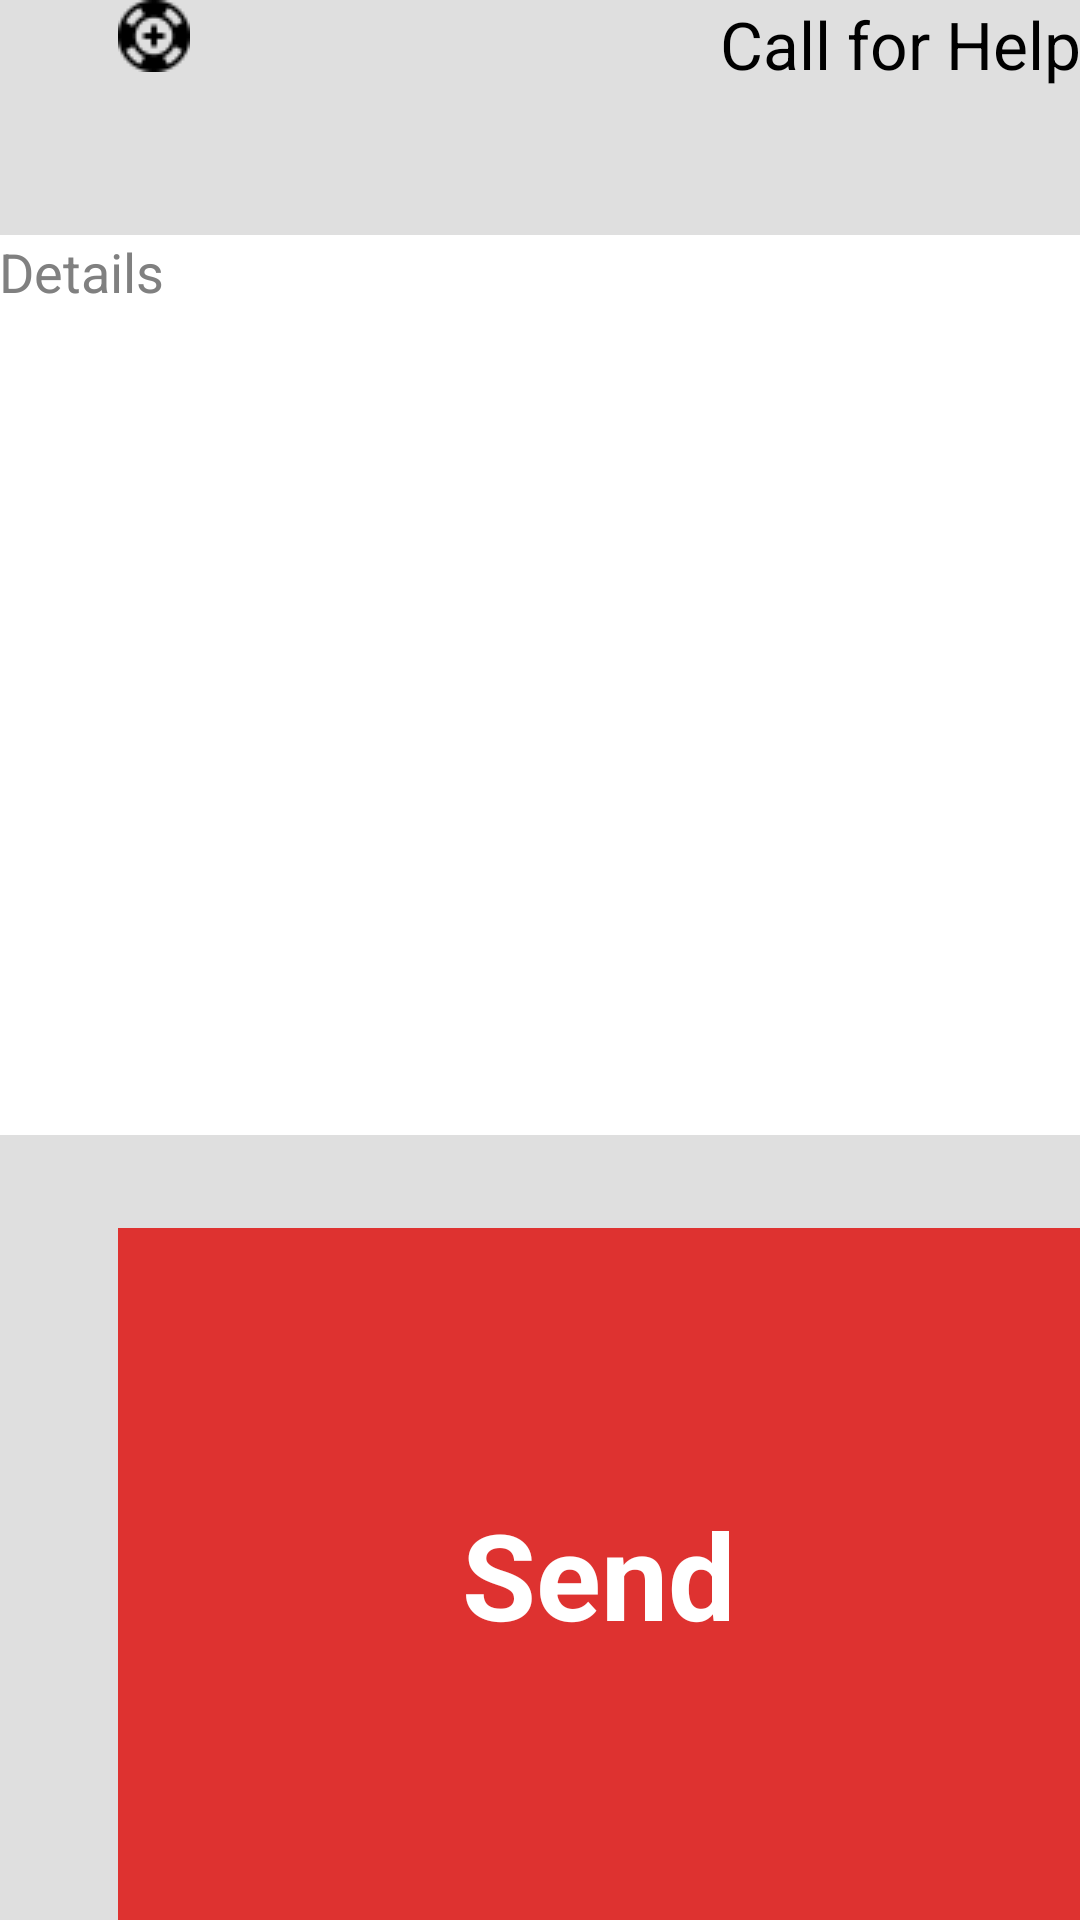

Icons on this 1080×1920 Android screen, each with its box as (x1=x1, y1=y1, x2=x2, y2=y2):
help: (x1=118, y1=0, x2=190, y2=72)
